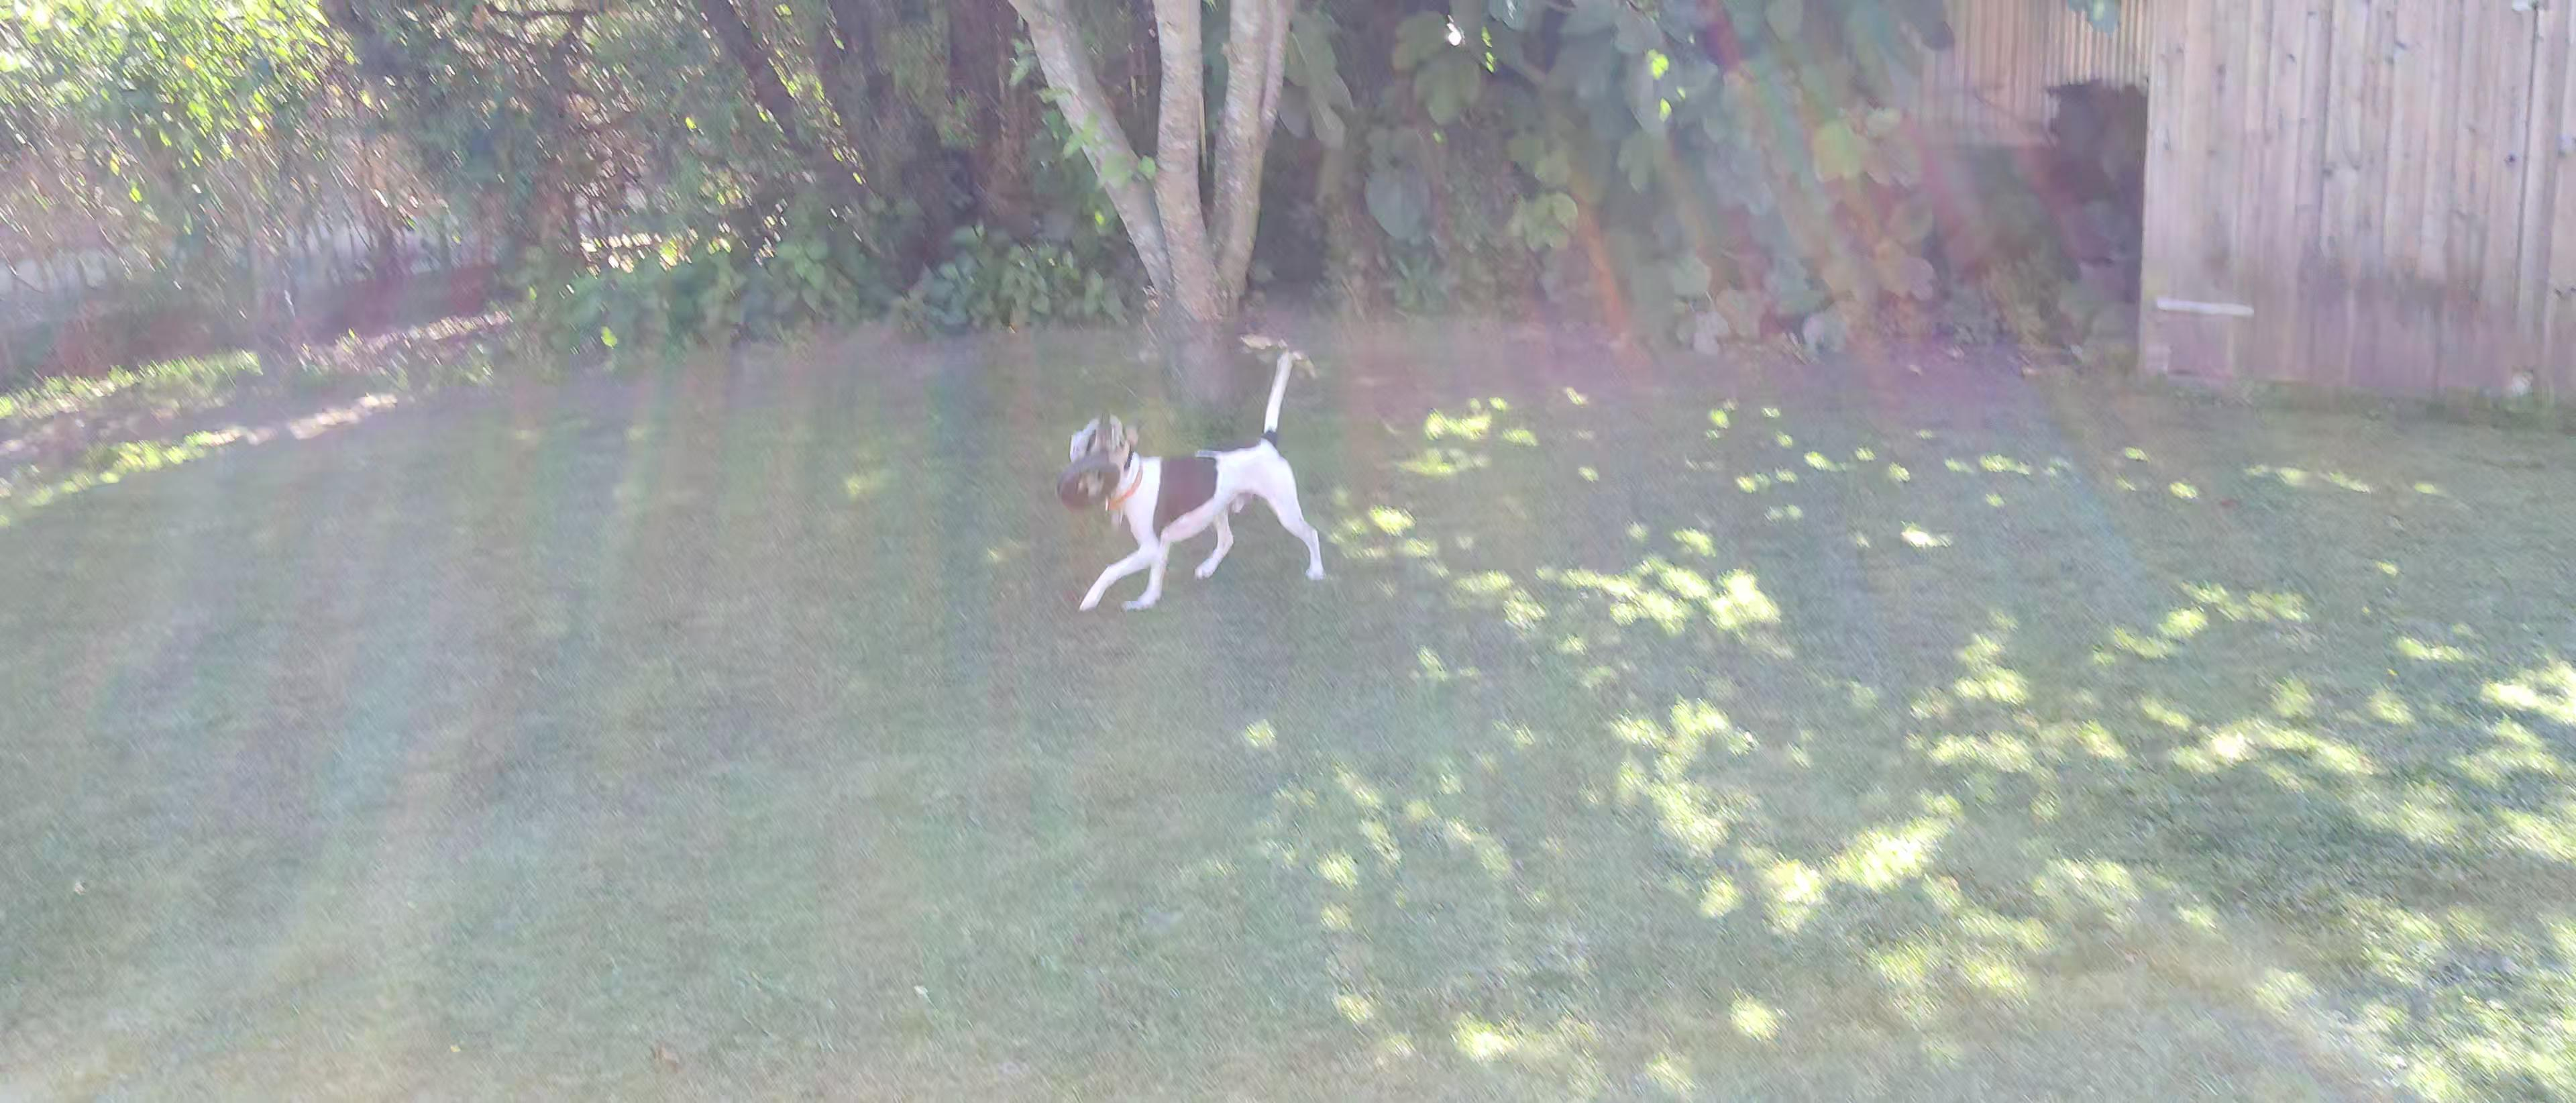Dog: (1063, 342, 1339, 616)
